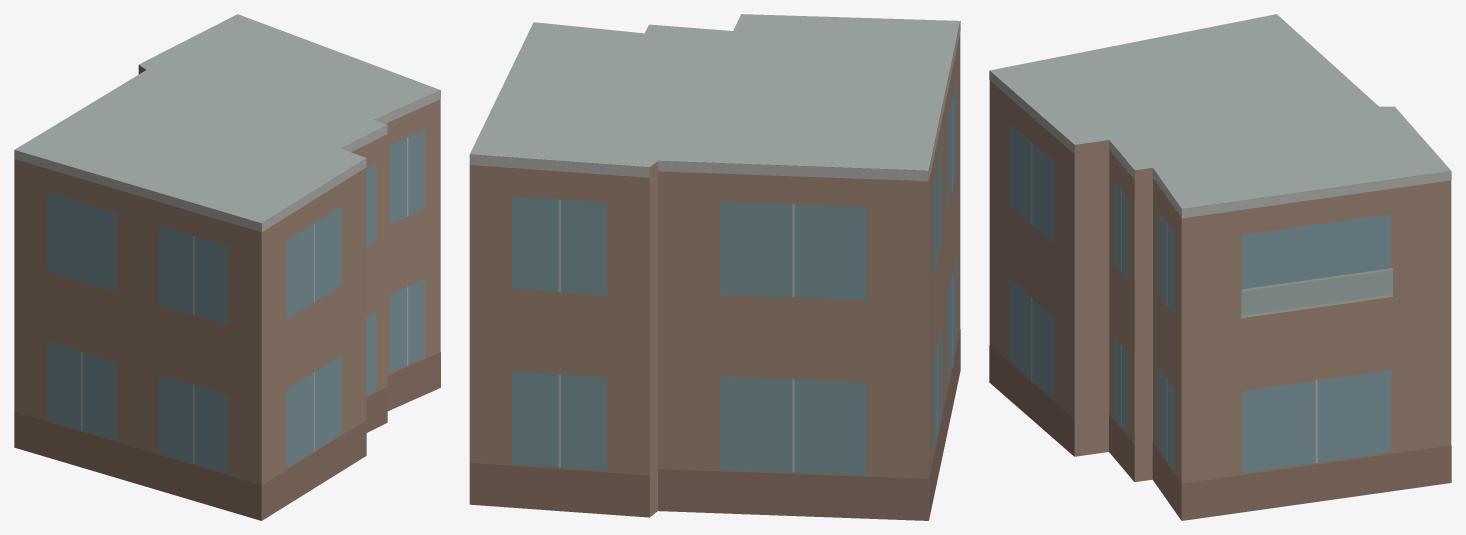
File: survey-upis-32936008.glb
The picture shows the model from 3 angles, left to right: view 1: azimuth 30°, elevation 25°; view 2: azimuth 150°, elevation 25°; view 3: azimuth 270°, elevation 25°; orthographic projection. The views are drawn at different scales.
Parts seen in each view (by area): view 1: survey-upis-32936008.tmp; view 2: survey-upis-32936008.tmp; view 3: survey-upis-32936008.tmp.
Part boxes in pixels (x1,y1,x2,y2): survey-upis-32936008.tmp: [14, 14, 440, 520]; survey-upis-32936008.tmp: [469, 14, 960, 520]; survey-upis-32936008.tmp: [989, 14, 1451, 520].
Bounding box in the file's own units: 10.73 × 8 × 10.75.
